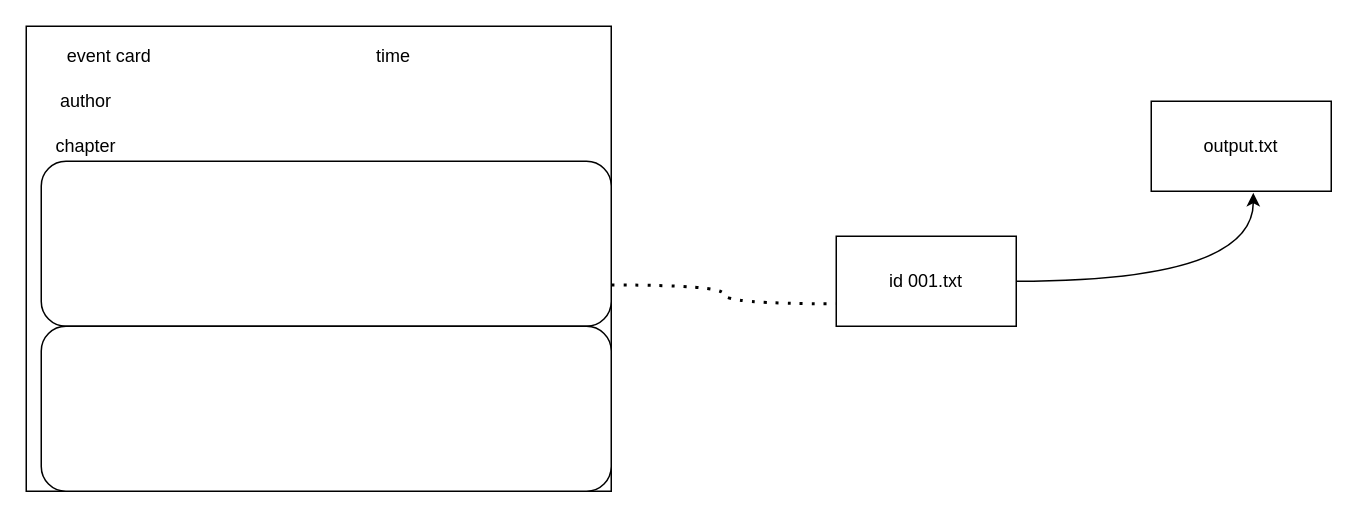
Some shapes in this 1358 by 518 pixel diagram are drawn without their labels. Here are the shapes that lost their labels. From the top down, the centre of each, then its label:
At pixel 325 243: "event text description".
At pixel 325 408: "comment".
